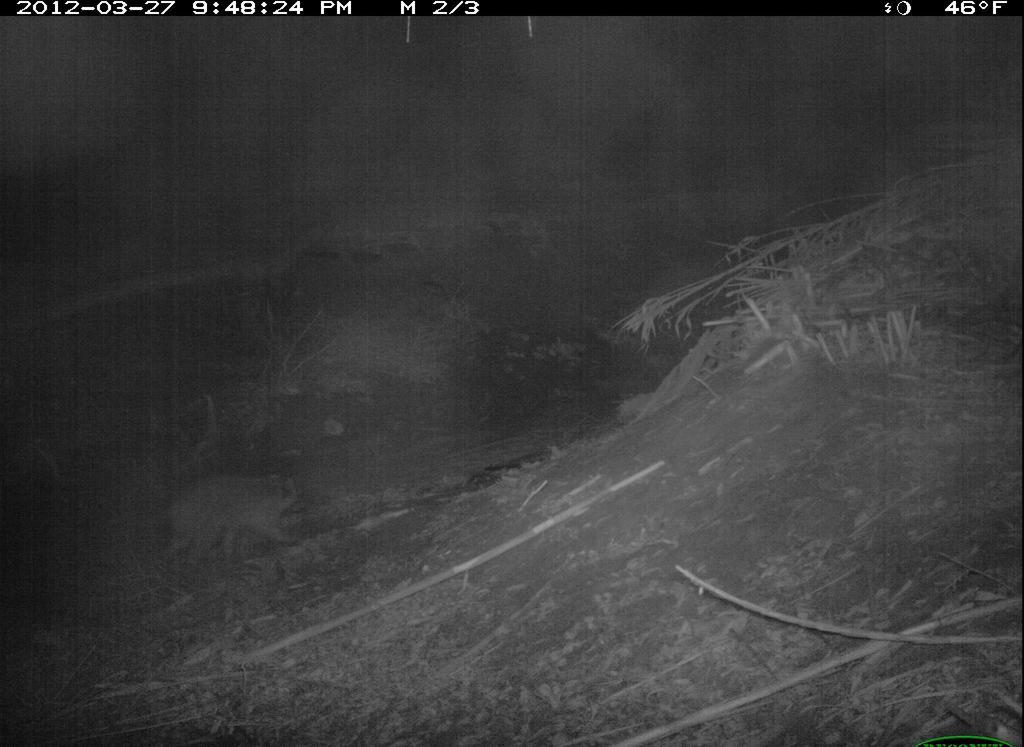raccoon: (163, 471, 309, 571)
